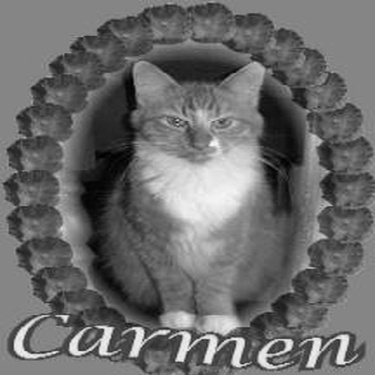cat: (94, 62, 287, 339)
